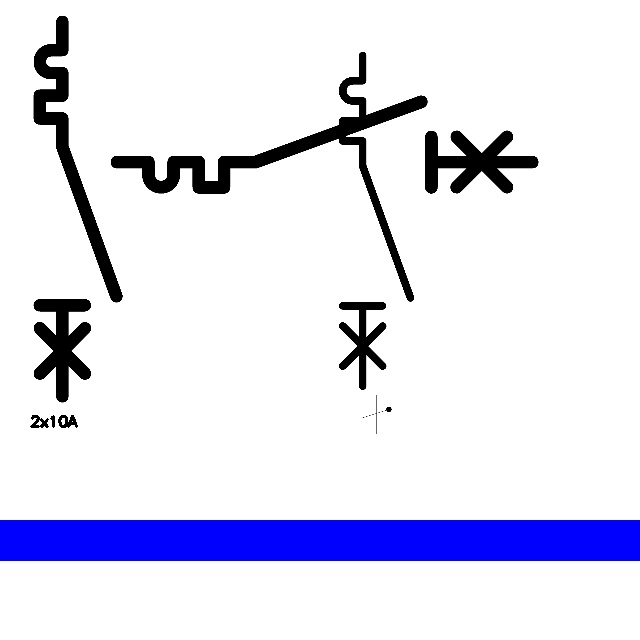interruptor_termomagnetico: (106, 91, 542, 198), (30, 12, 126, 406), (334, 47, 419, 394)
